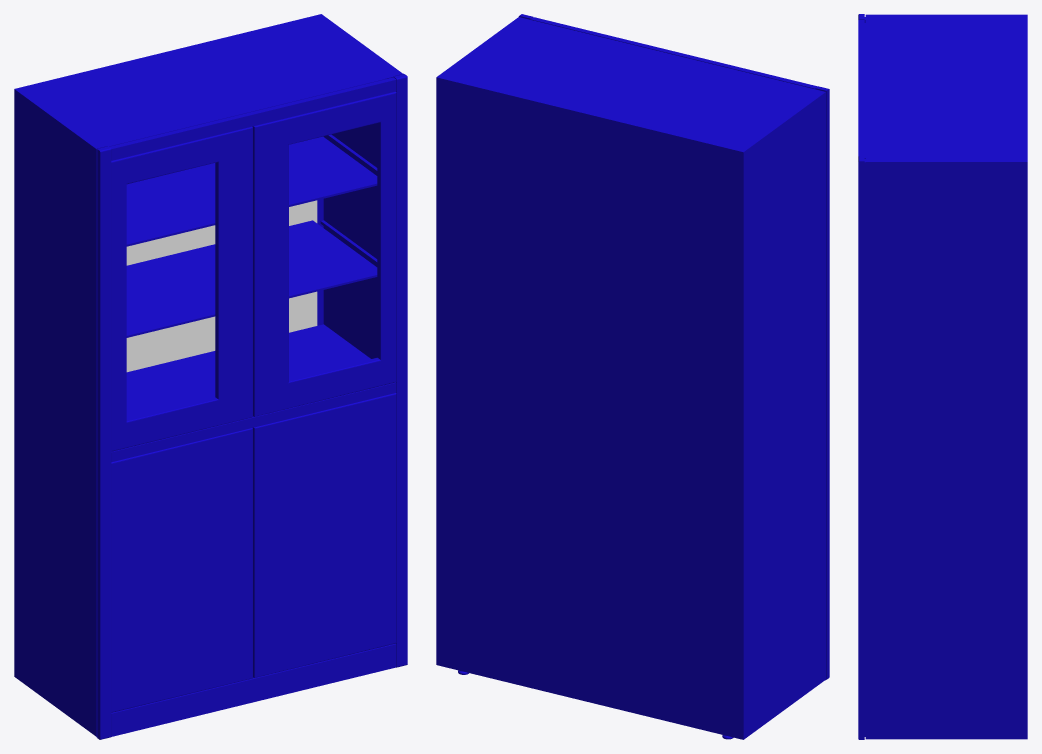
The picture shows the model from 3 angles, left to right: view 1: azimuth 30°, elevation 25°; view 2: azimuth 150°, elevation 25°; view 3: azimuth 270°, elevation 25°; orthographic projection.
Visible parts, largest first — view 1: Archmodels70_020_09, Archmodels70_020_12, 对象002, 对象003, 对象001; view 2: Archmodels70_020_09, 对象002, 对象001; view 3: Archmodels70_020_09, 对象003, 对象001.
Part boxes in pixels (box(x1,y1,x2,y2)): Archmodels70_020_09: box(14, 14, 402, 736); Archmodels70_020_12: box(126, 136, 377, 337); 对象002: box(96, 146, 111, 739); 对象003: box(393, 73, 407, 667); 对象001: box(109, 77, 396, 160); Archmodels70_020_09: box(436, 17, 825, 739); 对象002: box(815, 86, 829, 680); 对象001: box(530, 17, 817, 88); Archmodels70_020_09: box(865, 14, 1027, 739); 对象003: box(858, 156, 865, 739); 对象001: box(858, 20, 865, 158).
Bounding box in the file's own units: 969 × 1793 × 470.
